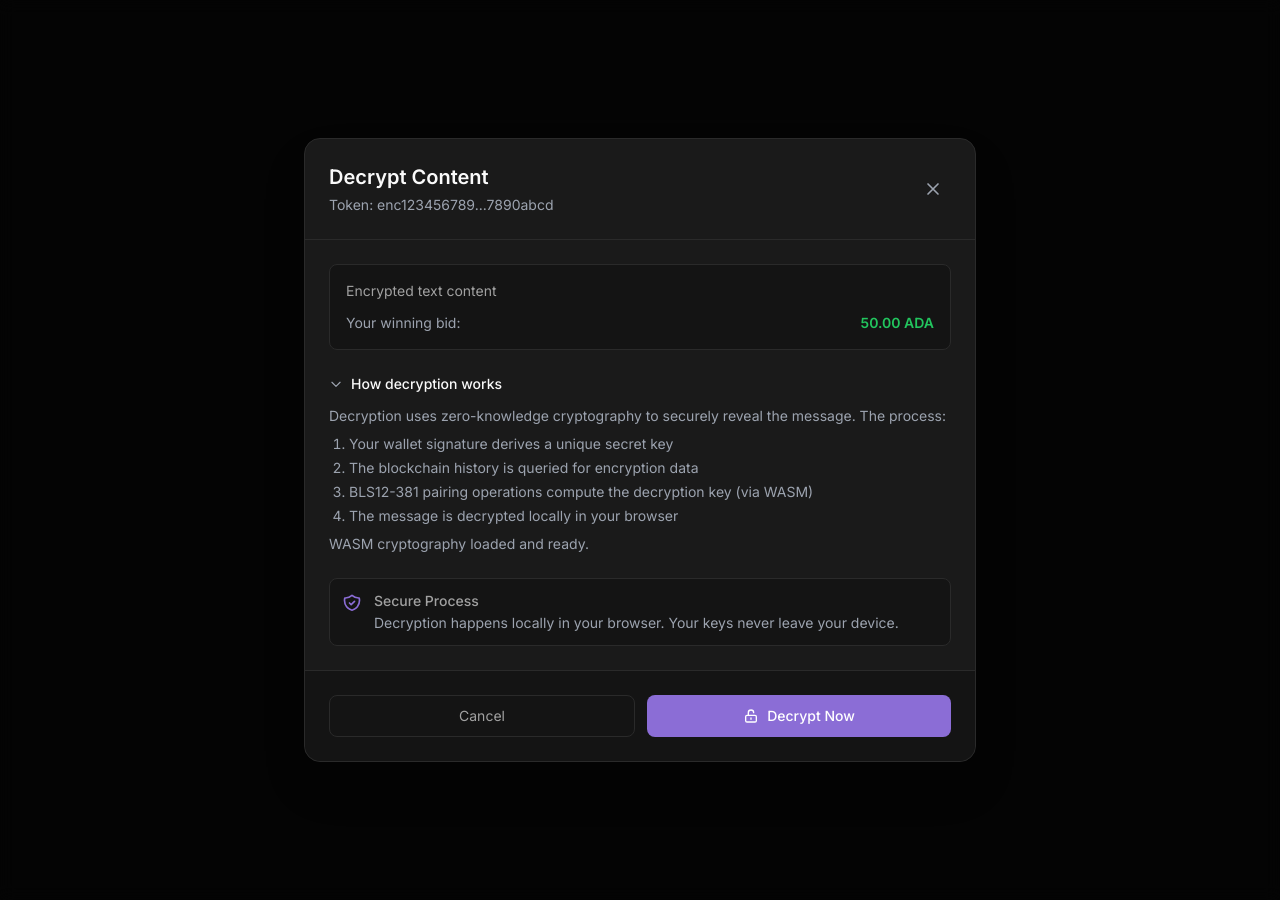
Test: DecryptModal › shows decrypting state with spinner and progress
This screenshot has width=1280, height=900.
Click the button "Decrypt Now" at (799, 716), box [647,695,951,737]
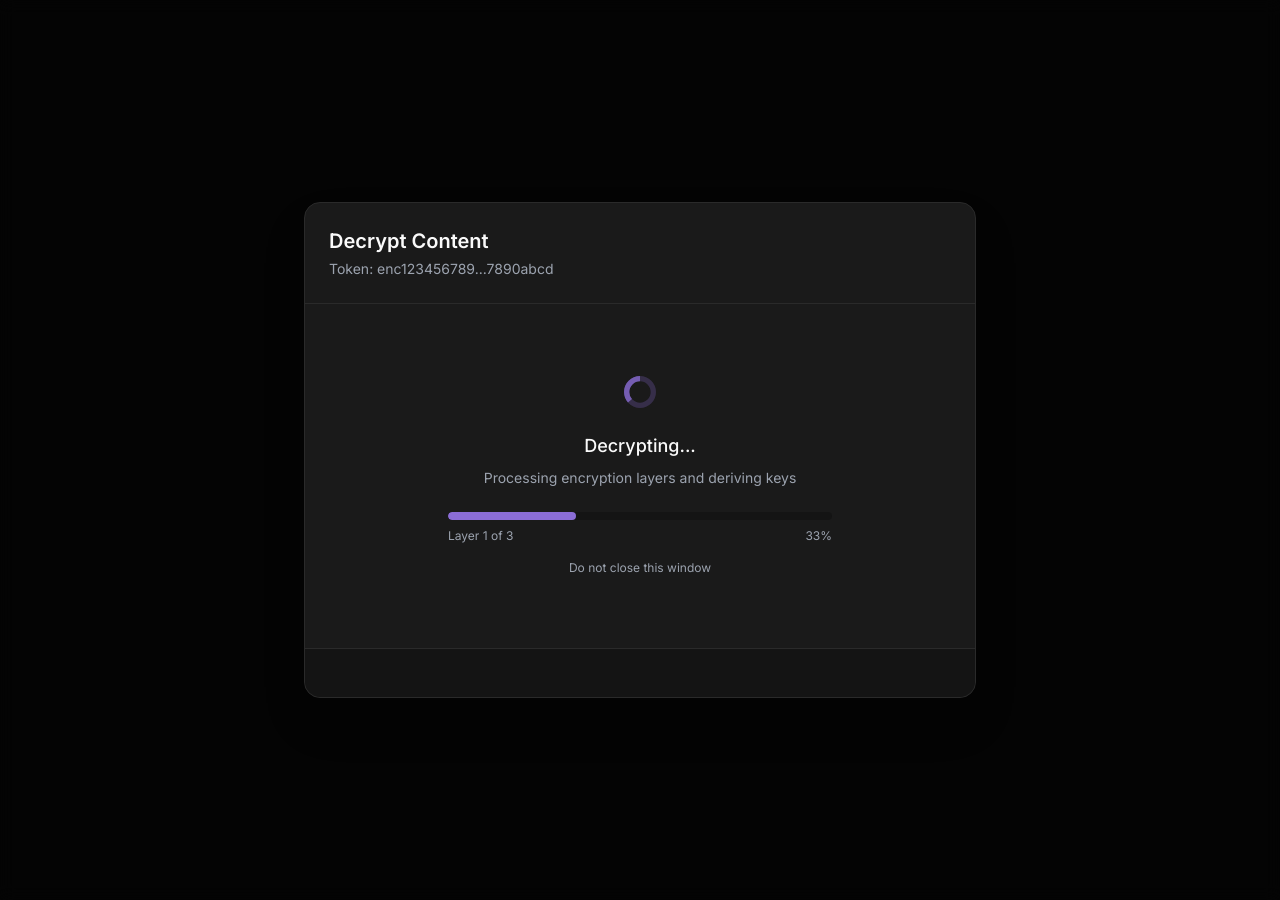
expect the heading "Decrypting..." is shown: met, box [584,435,696,456]
expect the text "Layer 1 of 3" is shown: met, box [448,528,513,544]
expect the text "33%" is shown: met, box [805,528,832,544]
